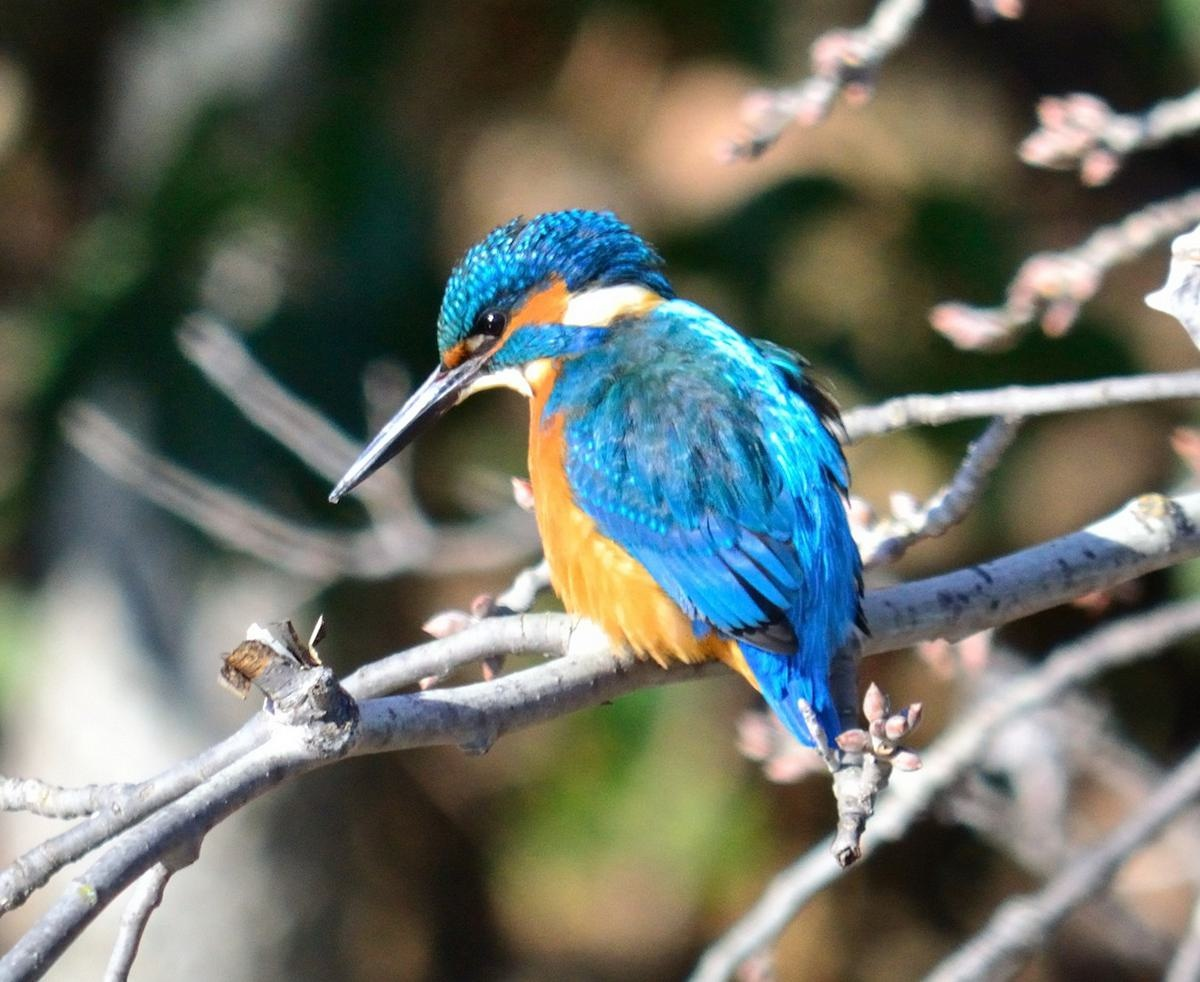kingfisher: (335, 210, 937, 740)
